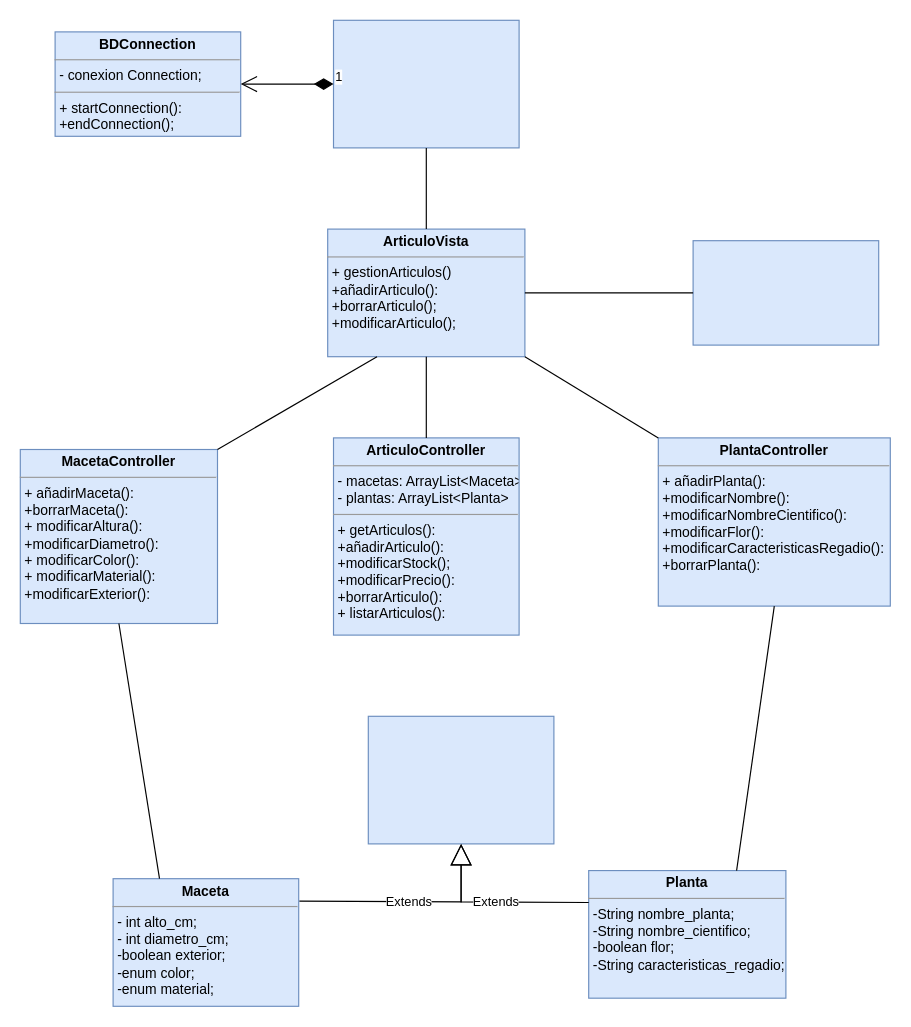
Some shapes in this 911 by 1027 pixel diagram are drawn without their labels. Each missing label, with the box of its shape:
<<abstract>> Articulo - int codigo_articulo; -int stock; - double precio;: (367, 715, 554, 844)
MainView - conexion: BDConnection; - scan: Scanner; + main(); +escribirErr():: (332, 19, 519, 148)
TicketController + resumenTickets(): +ArticulosMasVendidos();: (692, 240, 879, 345)
